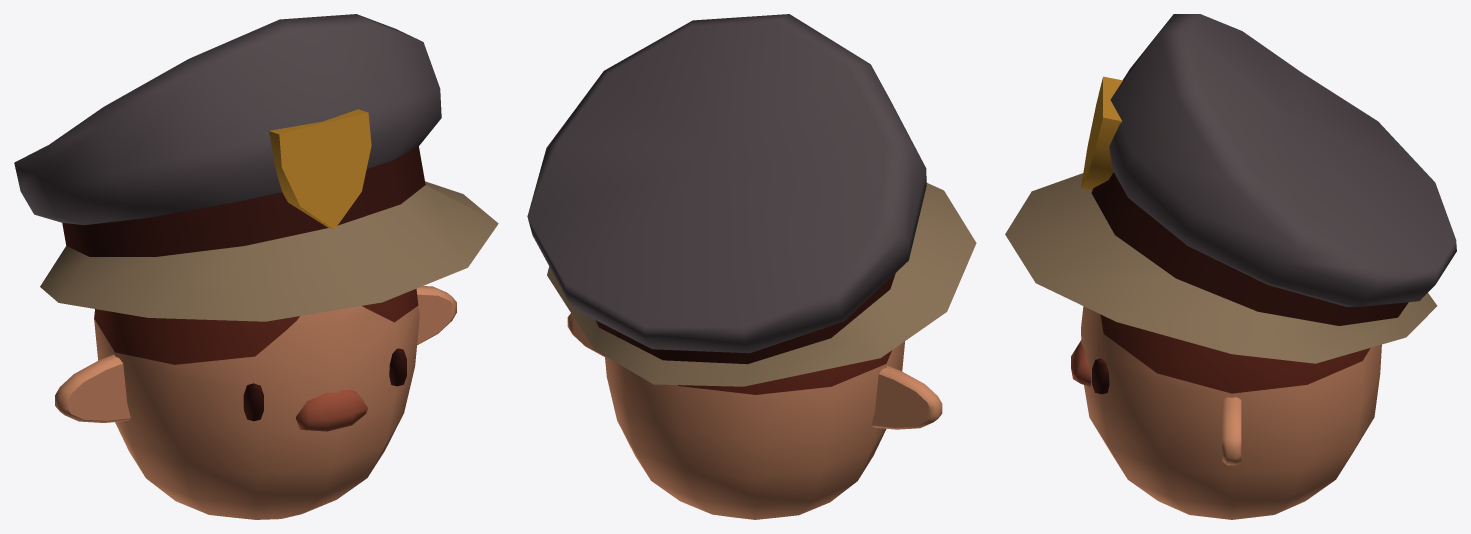
Rendered from NPC_PoliceMan2_Circle_Head.fbx.
3 views of the same model, side by side, from view 1: azimuth 30°, elevation 25°; view 2: azimuth 150°, elevation 25°; view 3: azimuth 270°, elevation 25° (orthographic). The views are drawn at different scales.
Visible parts, largest first — view 1: PoliceOfficer_Round_Head; view 2: PoliceOfficer_Round_Head; view 3: PoliceOfficer_Round_Head.
Part boxes in pixels (bbox=[...]): PoliceOfficer_Round_Head: bbox=[14, 14, 498, 519]; PoliceOfficer_Round_Head: bbox=[527, 14, 976, 519]; PoliceOfficer_Round_Head: bbox=[1005, 14, 1456, 519].
Bounding box in the file's own units: 3.19 × 3.71 × 3.23.
